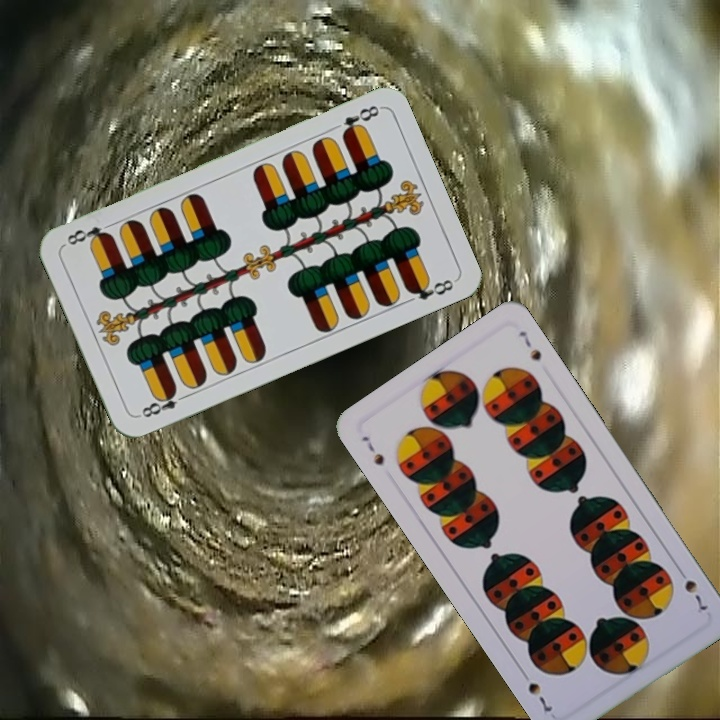E8: (134, 384, 191, 421), (337, 101, 382, 140)
S7: (673, 563, 710, 617), (357, 431, 387, 468)
